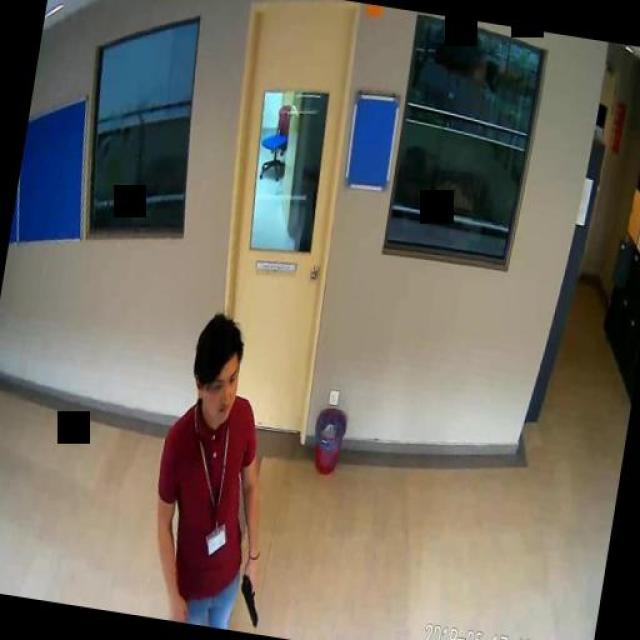gun: (234, 561, 265, 624)
